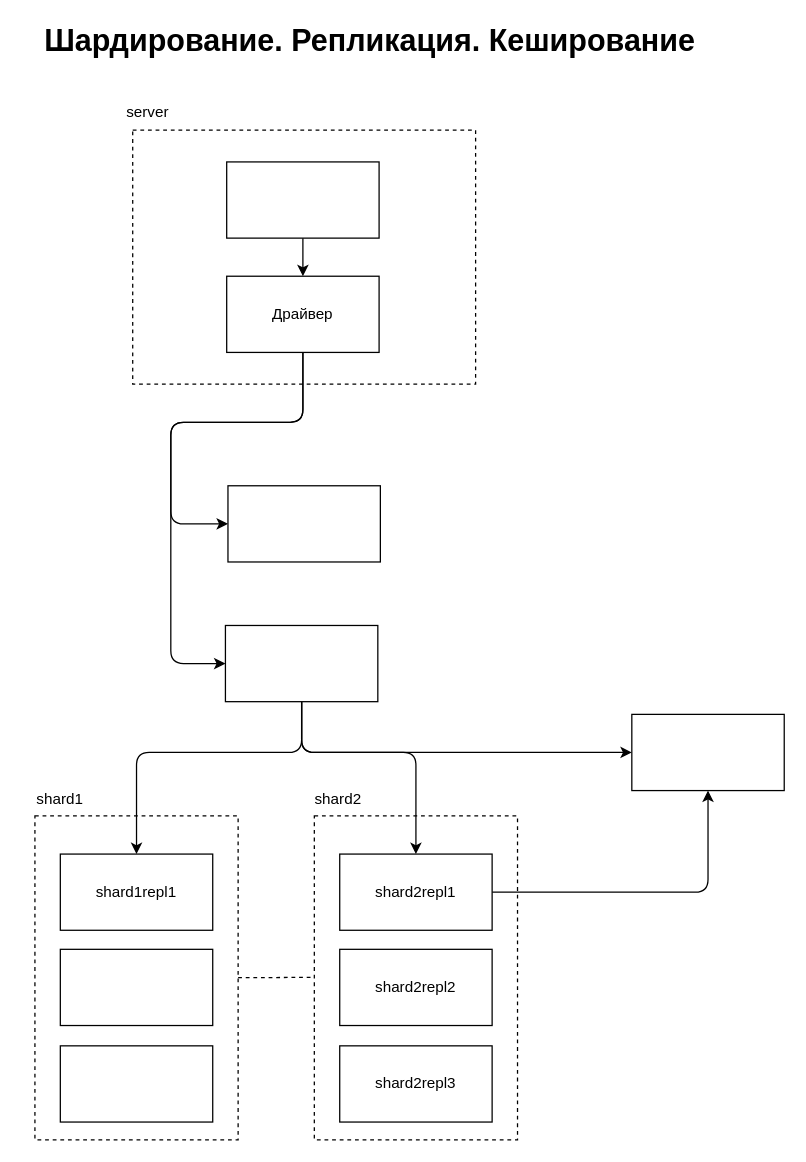
Some shapes in this 806 by 1162 pixel diagram are drawn without their labels. Here are the shapes that lost their labels. From the top down, the box of each, then its label:
(225, 161, 379, 238): Приложение
(227, 485, 380, 562): redis
(224, 624, 378, 702): mongos_router
(631, 713, 784, 791): configSrv
